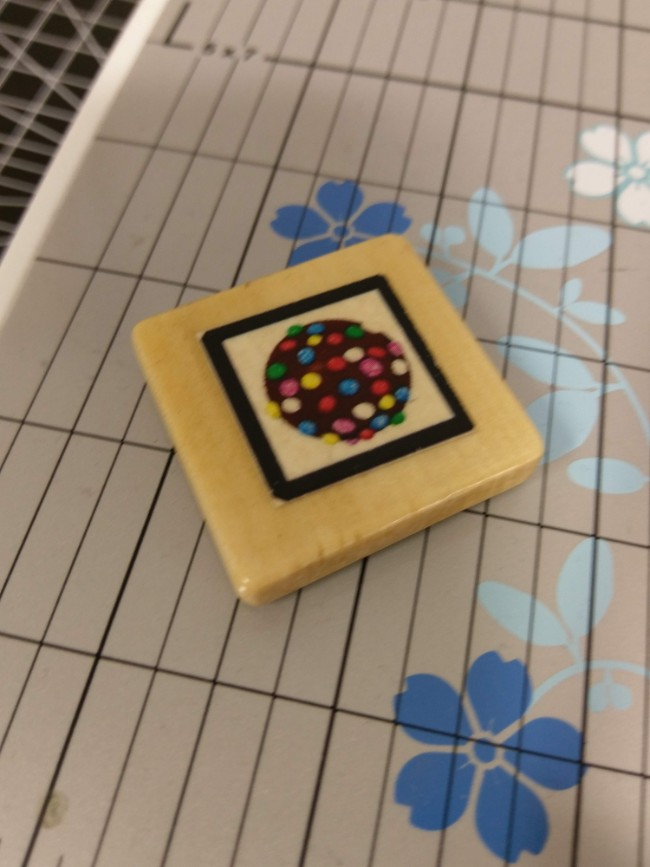cookie: (179, 266, 506, 530)
